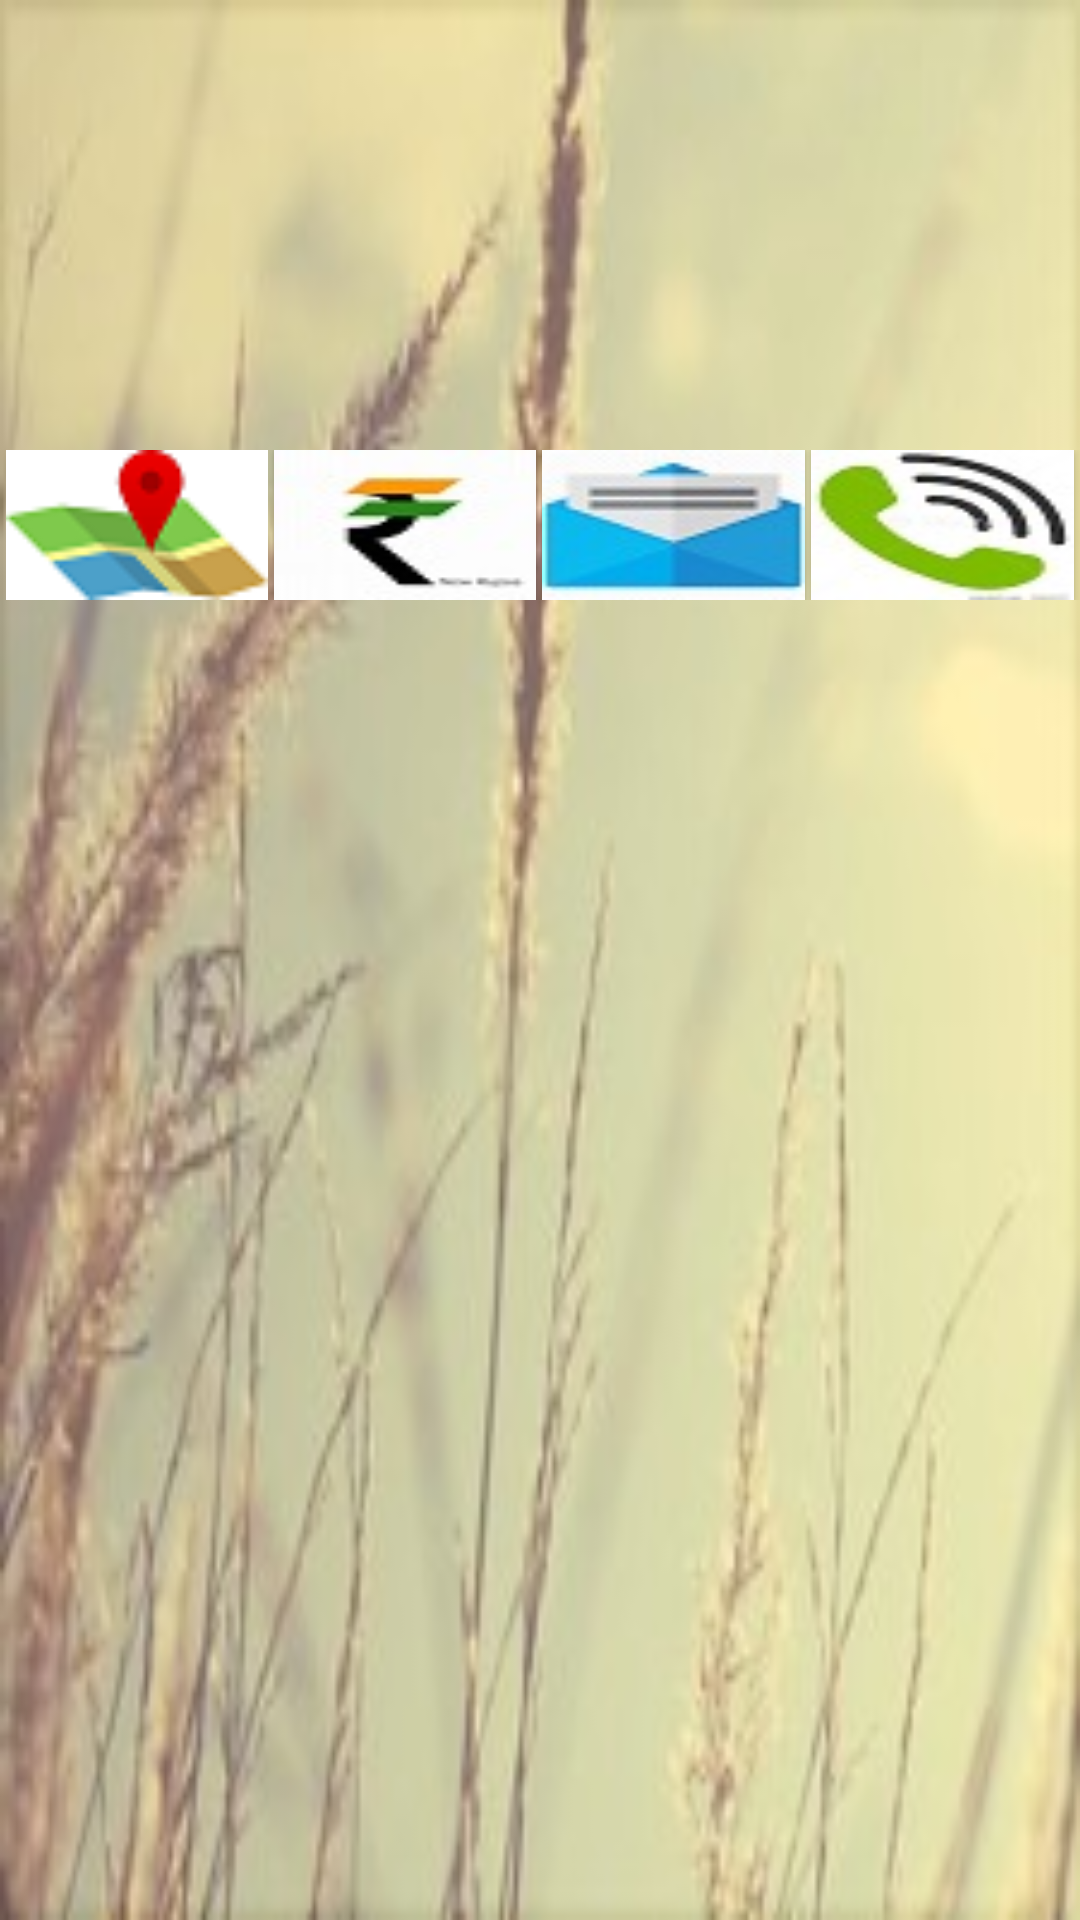

Named icons in this screenshot (1080w x 1920h) and their centers, point (x, y):
call: point (942, 525)
map: point (137, 525)
message: point (673, 525)
pay: point (405, 525)
